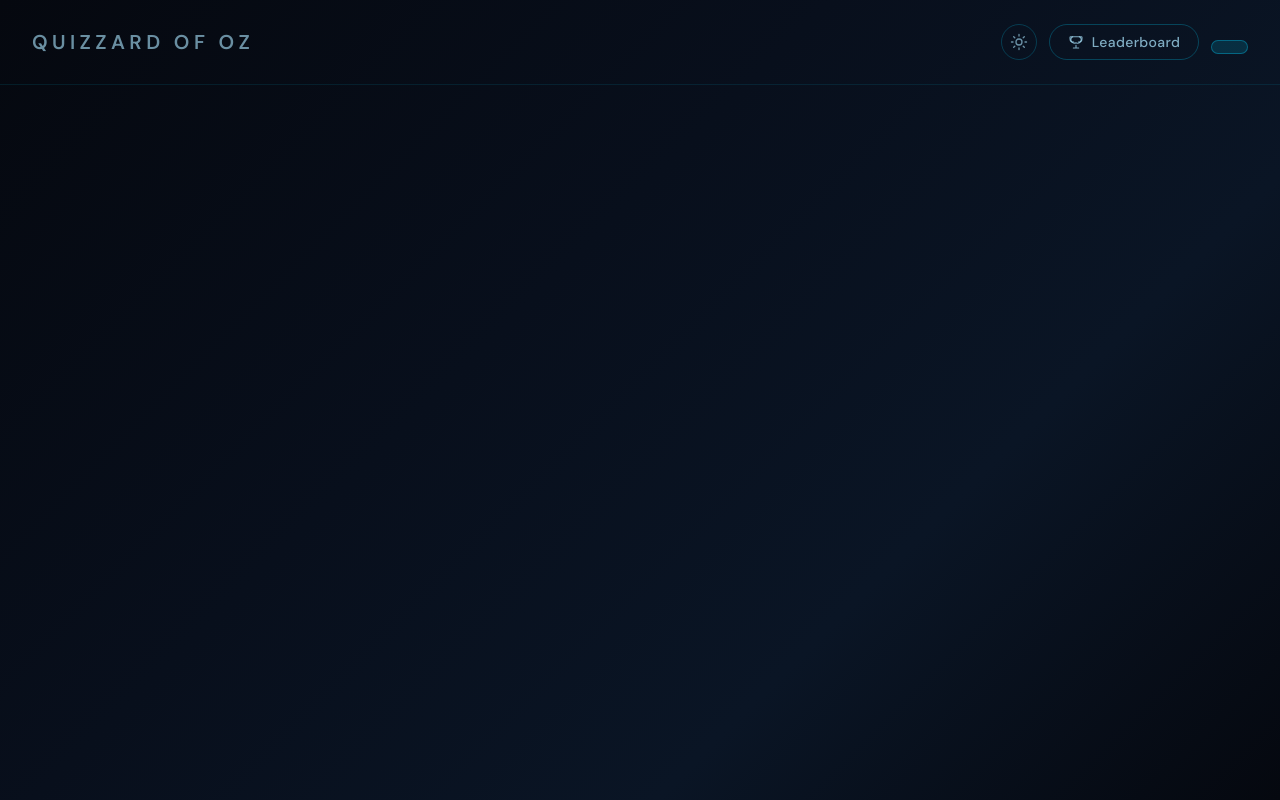
Test: Navbar – battle leave guard (isBattle = true) › shows the leave dialog when the logo is clicked
Click the link "Quizzard of Oz" at (143, 42), box [32,28,254,56]
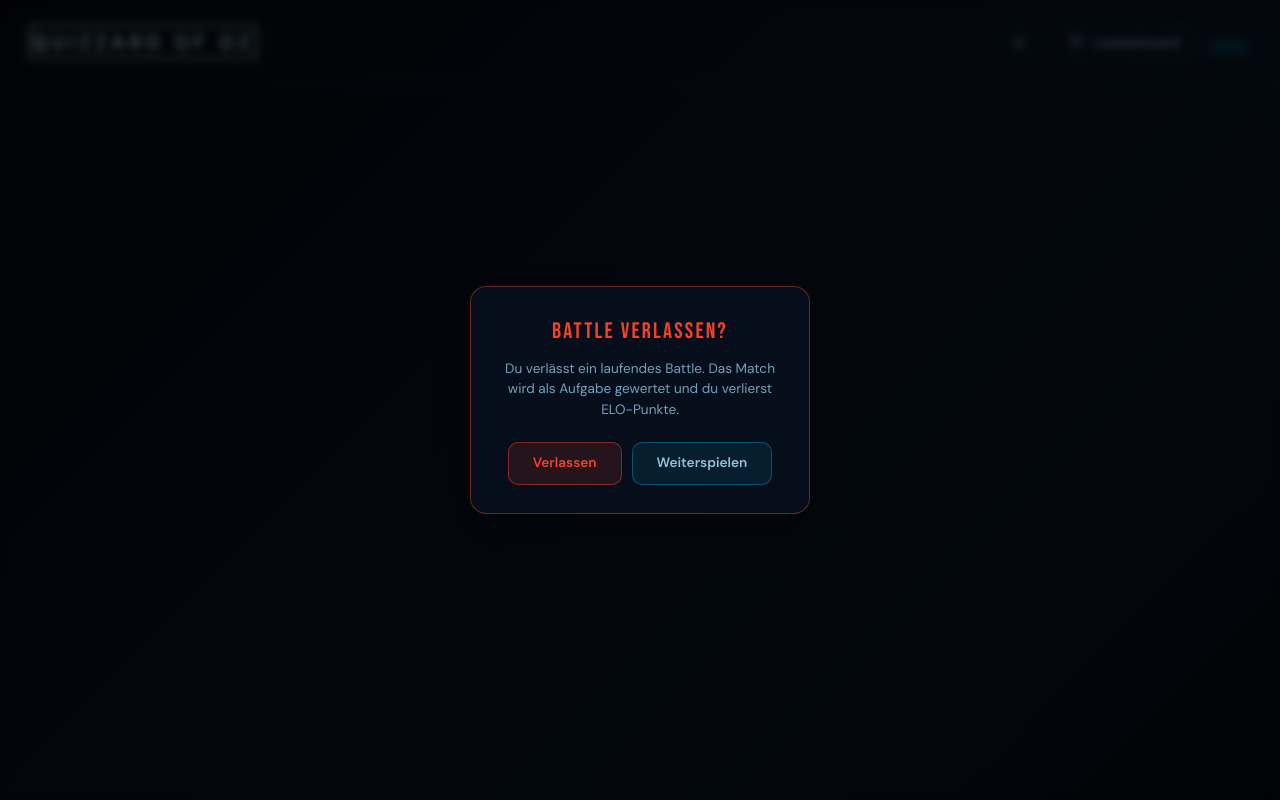
Now the dialog "Battle verlassen" is shown
